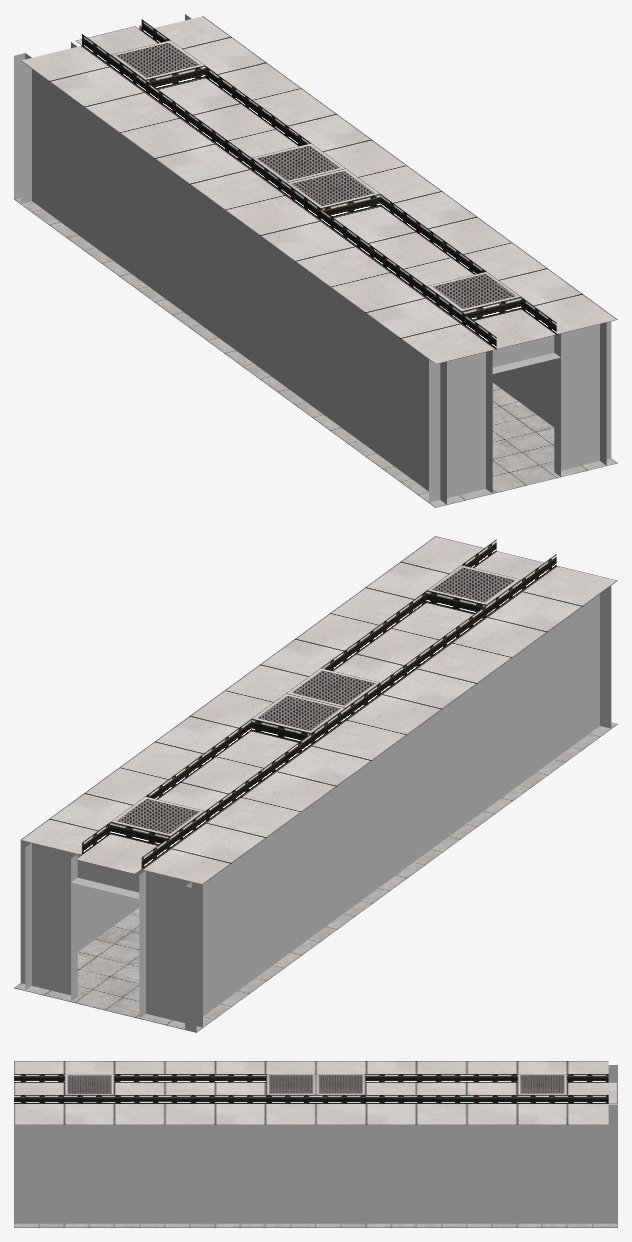
Rendered from room2z3_opt4.fbx.
The picture shows the model from 3 angles, top to bottom: view 1: azimuth 30°, elevation 25°; view 2: azimuth 150°, elevation 25°; view 3: azimuth 270°, elevation 25°; orthographic projection. The views are drawn at different scales.
Parts seen in each view (by area): view 1: Scene_Root; view 2: Scene_Root; view 3: Scene_Root.
Boxes of the visible parts, x1,y1,x2,y2 form: Scene_Root: [14, 14, 617, 507]; Scene_Root: [14, 536, 617, 1032]; Scene_Root: [14, 1061, 617, 1227].
Bounding box in the file's own units: 371 × 319 × 1485.
